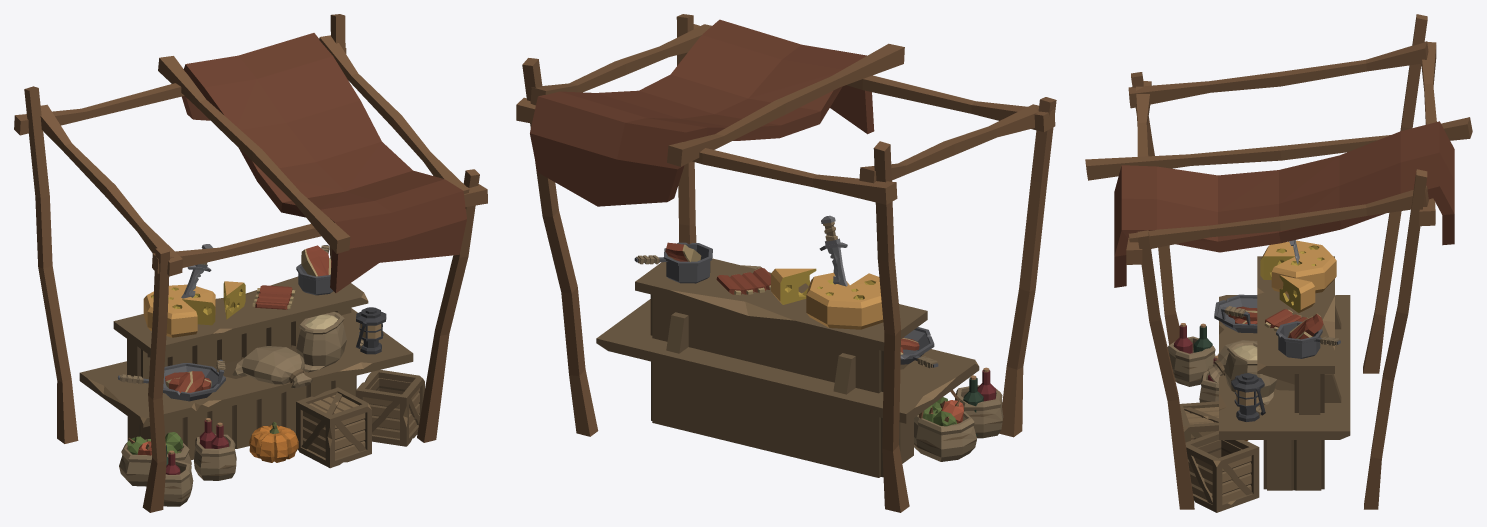
File: stall_b.glb
3 views of the same model, side by side, from view 1: azimuth 30°, elevation 25°; view 2: azimuth 150°, elevation 25°; view 3: azimuth 270°, elevation 25° (orthographic). The views are drawn at different scales.
Visible parts, largest first — view 1: SM_Bld_Stall_02; view 2: SM_Bld_Stall_02; view 3: SM_Bld_Stall_02.
Part boxes in pixels (left/top/right/bottom): SM_Bld_Stall_02: left=14, top=14, right=487, bottom=512; SM_Bld_Stall_02: left=516, top=14, right=1056, bottom=512; SM_Bld_Stall_02: left=1085, top=14, right=1472, bottom=512.
Size of the model in its own units: 300 by 297 by 299.
Materials: 1 (1 with a texture image).
